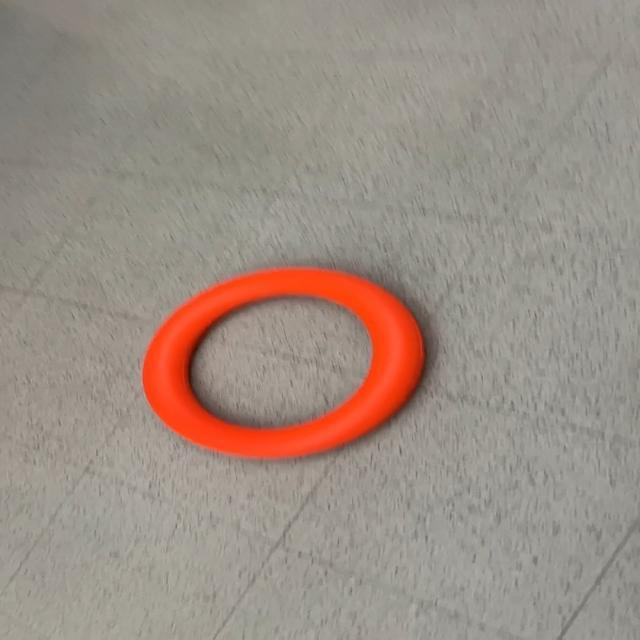note: (140, 265, 428, 461)
